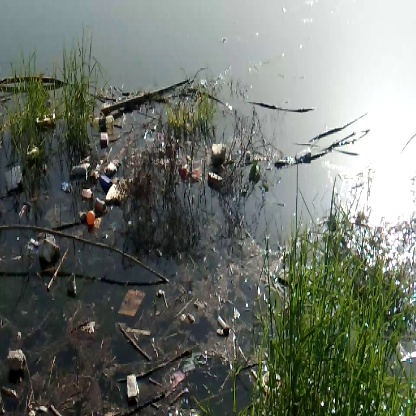branch: (100, 78, 198, 117)
